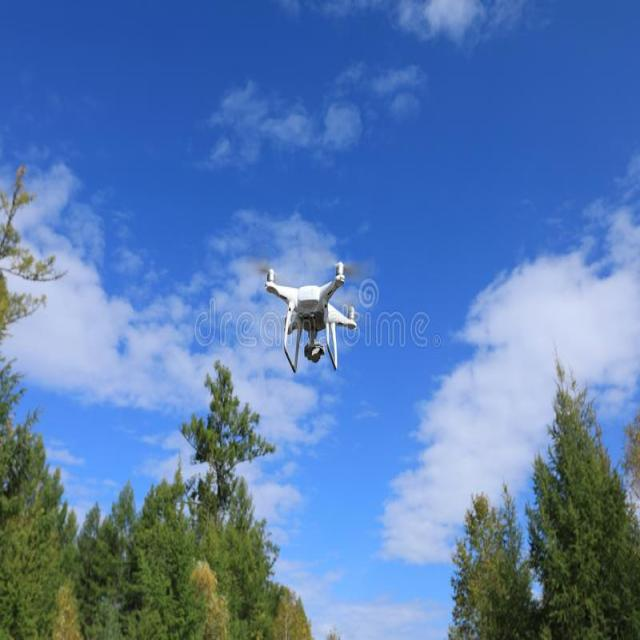drone: (245, 239, 379, 375)
